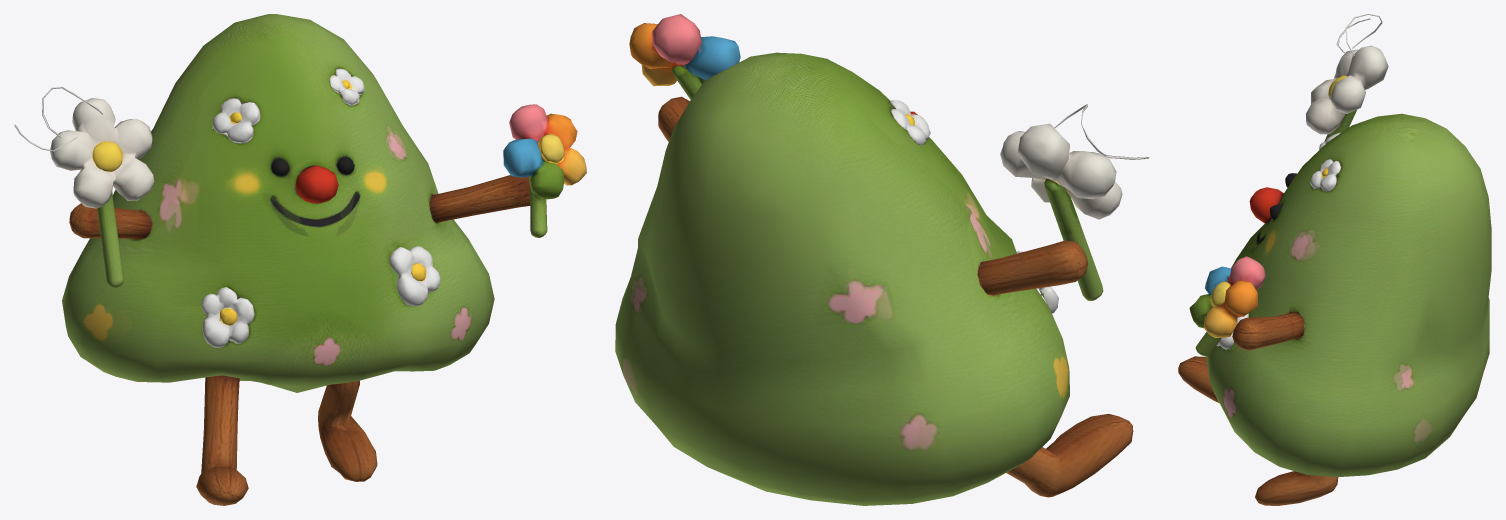
The model's file is Cute_Green_Hill_Plush_Toy.glb.
The picture shows the model from 3 angles, left to right: view 1: azimuth 30°, elevation 25°; view 2: azimuth 150°, elevation 25°; view 3: azimuth 270°, elevation 25°; orthographic projection. The views are drawn at different scales.
Parts seen in each view (by area): view 1: Cute_Green_Hill_Plush_Toy; view 2: Cute_Green_Hill_Plush_Toy; view 3: Cute_Green_Hill_Plush_Toy.
Part boxes in pixels (x1=…): Cute_Green_Hill_Plush_Toy: x1=14, y1=14, x2=586, y2=505; Cute_Green_Hill_Plush_Toy: x1=615, y1=14, x2=1149, y2=505; Cute_Green_Hill_Plush_Toy: x1=1178, y1=14, x2=1491, y2=505.
Size of the model in its own units: 0.998 by 0.8027 by 0.5996.
1 material, 1 textured.
